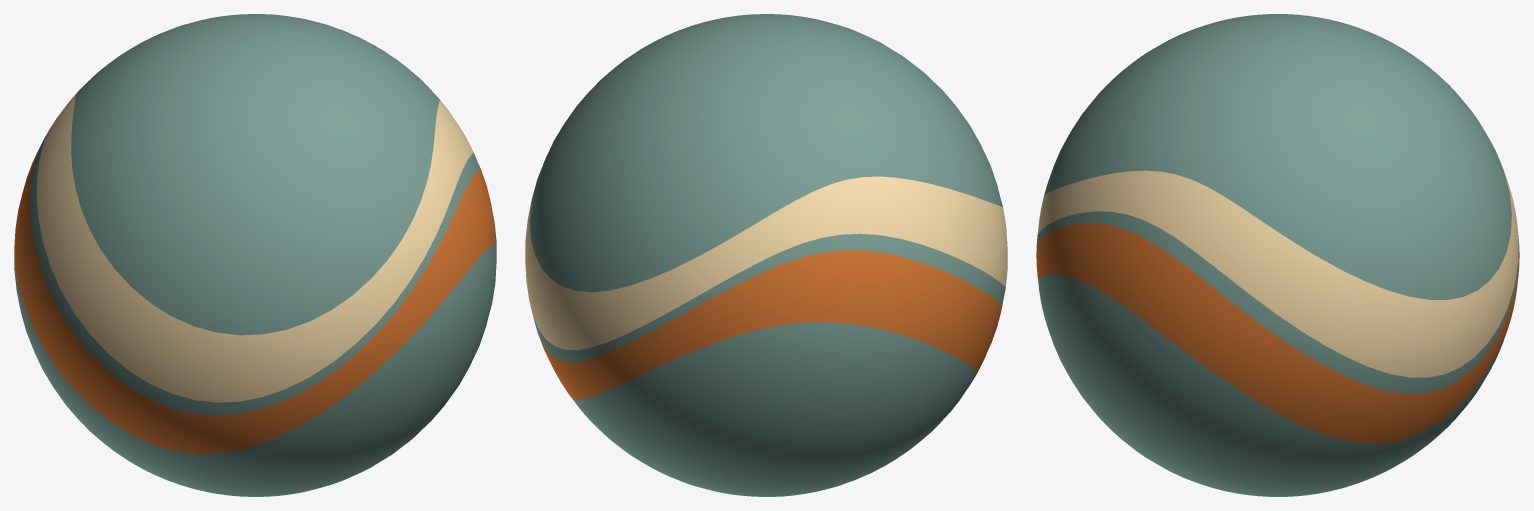
Rendered from ball.glb.
The picture shows the model from 3 angles, left to right: view 1: azimuth 30°, elevation 25°; view 2: azimuth 150°, elevation 25°; view 3: azimuth 270°, elevation 25°; orthographic projection.
Parts seen in each view (by area): view 1: ball; view 2: ball; view 3: ball.
Boxes of the visible parts, box(x1,y1,x2,y2) form: ball: box(14, 14, 496, 496); ball: box(525, 14, 1007, 496); ball: box(1036, 14, 1519, 496).
Size of the model in its own units: 0.016 by 0.016 by 0.016.
